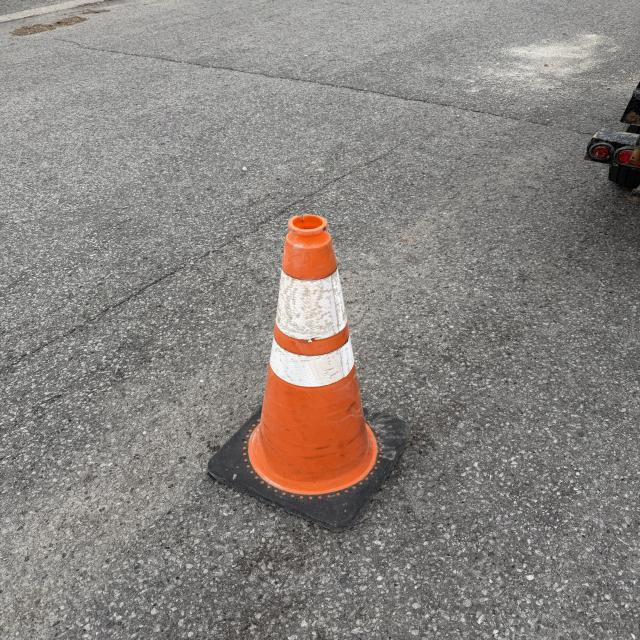Traffic Cone: (206, 215, 410, 532)
